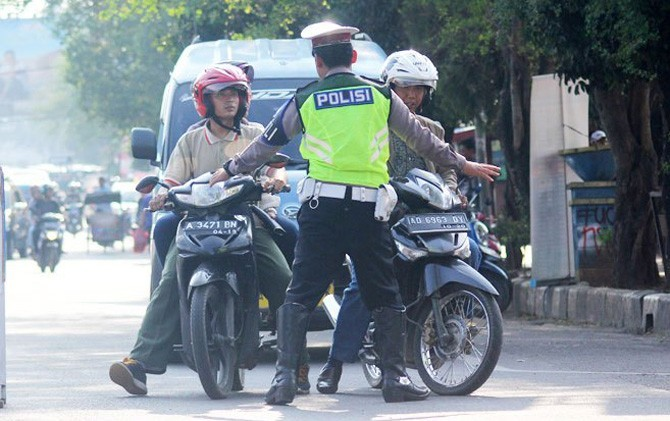plate: (411, 211, 466, 236), (185, 215, 238, 238)
